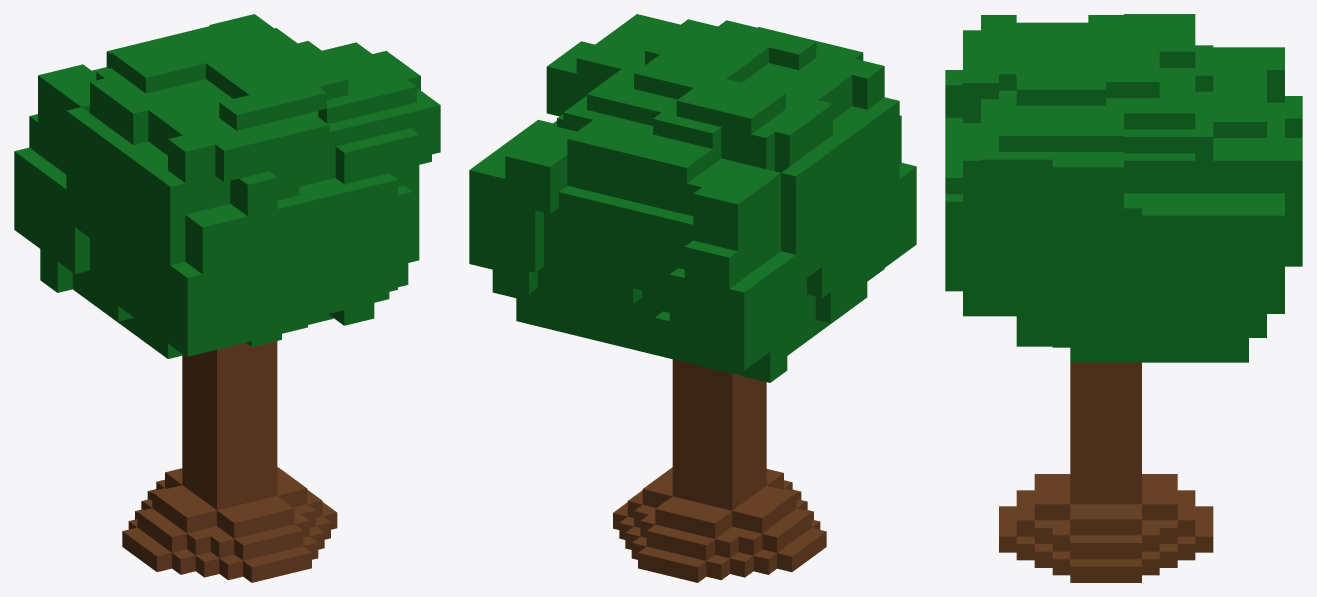
The model's file is tree_clean_1.dae.
The picture shows the model from 3 angles, left to right: view 1: azimuth 30°, elevation 25°; view 2: azimuth 150°, elevation 25°; view 3: azimuth 270°, elevation 25°; orthographic projection. The views are drawn at different scales.
Visible parts, largest first — view 1: PlaneCOL; view 2: PlaneCOL; view 3: PlaneCOL.
Part boxes in pixels (box(x1,y1,x2,y2)): PlaneCOL: box(14, 14, 440, 582); PlaneCOL: box(469, 14, 916, 582); PlaneCOL: box(945, 14, 1302, 582).
Size of the model in its own units: 1.9 by 2 by 3.
